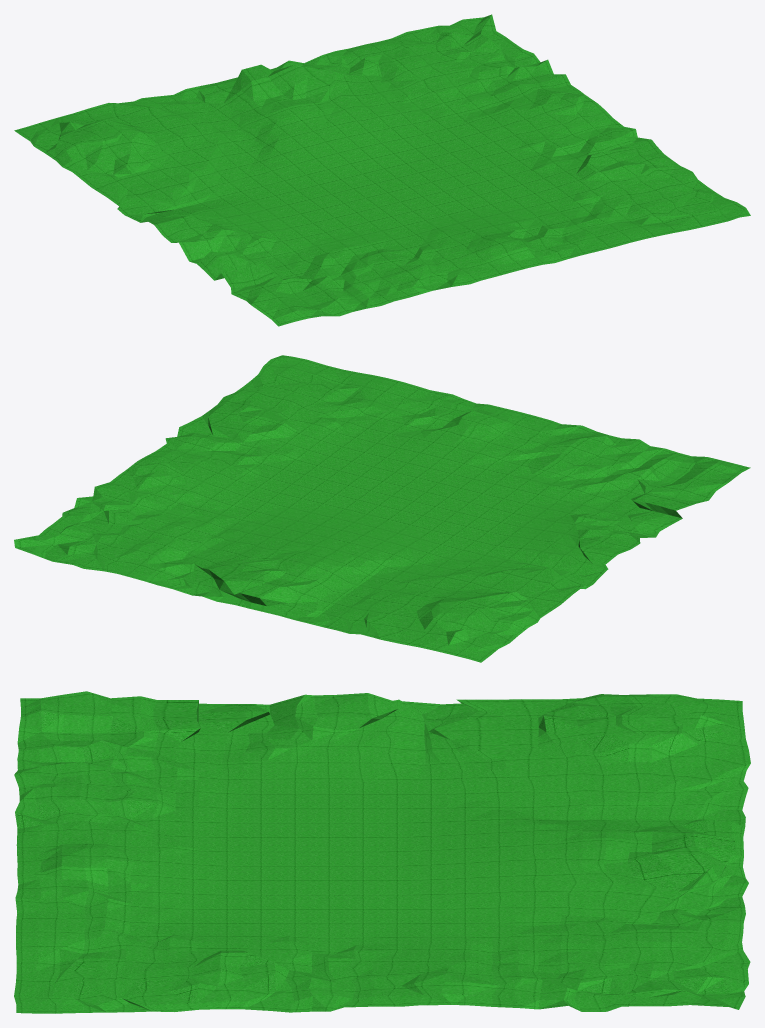
Rendered from grass.obj.
3 views of the same model, one above another, from view 1: azimuth 30°, elevation 25°; view 2: azimuth 150°, elevation 25°; view 3: azimuth 270°, elevation 25° (orthographic). The views are drawn at different scales.
Parts seen in each view (by area): view 1: Plano; view 2: Plano; view 3: Plano.
Boxes of the visible parts, x1,y1,x2,y2 form: Plano: (14,14,750,326); Plano: (14,355,750,662); Plano: (14,691,750,1013).
Bounding box in the file's own units: 515 × 15.54 × 508.
